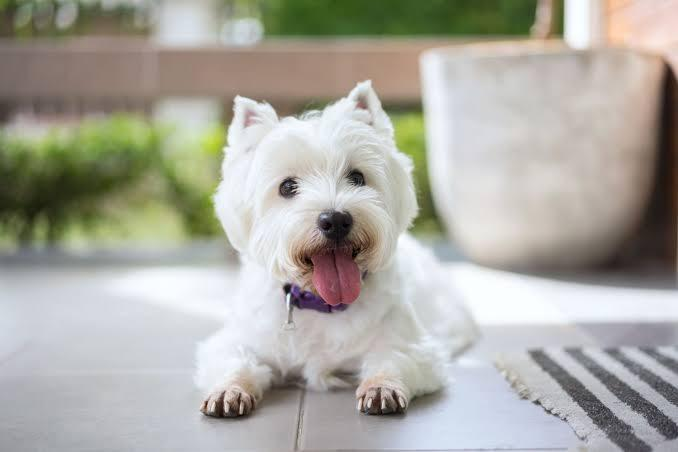adult_dog: (194, 80, 480, 420)
